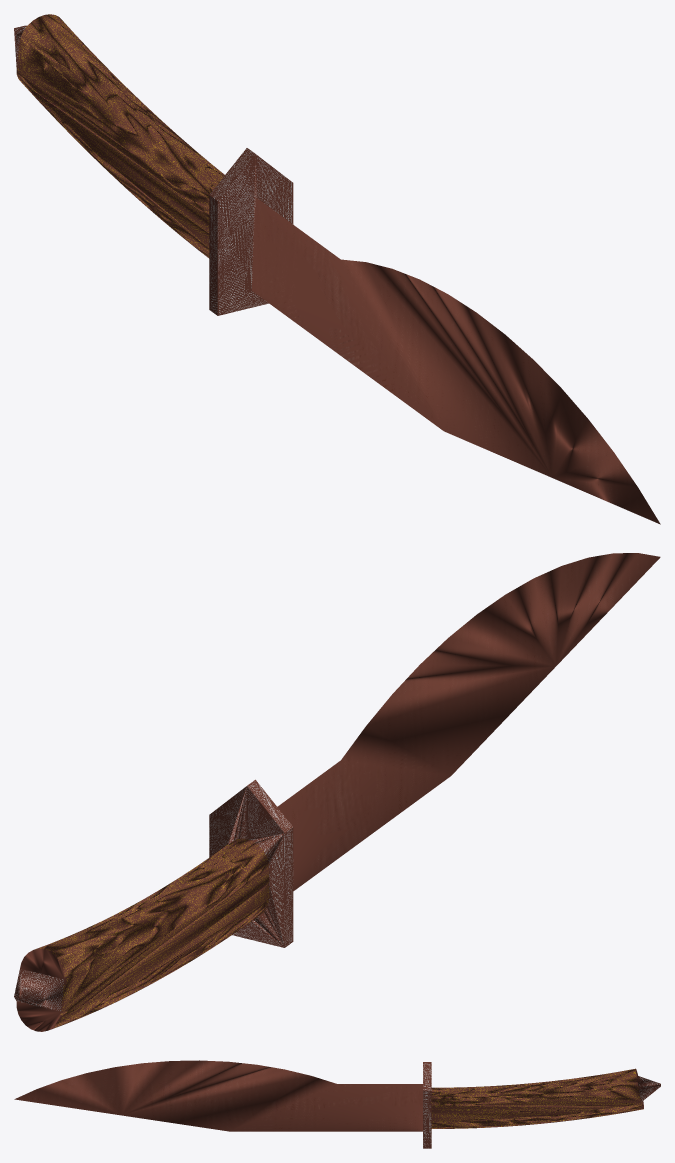
The model's file is model_align.obj.
The picture shows the model from 3 angles, top to bottom: view 1: azimuth 30°, elevation 25°; view 2: azimuth 150°, elevation 25°; view 3: azimuth 270°, elevation 25°; orthographic projection. The views are drawn at different scales.
Size of the model in its own units: 0.0139 by 0.0275 by 0.2051.
